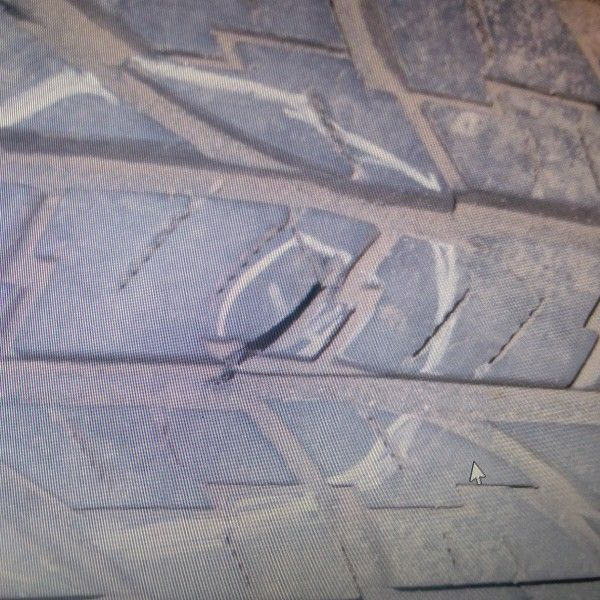tr: (219, 273, 335, 399)
